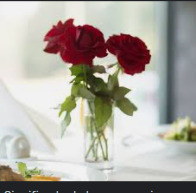RedRose: (46, 21, 108, 63), (105, 30, 152, 74)
